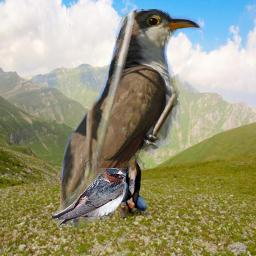Cuckoo: (60, 9, 234, 228)
Swallow: (52, 168, 126, 227)
